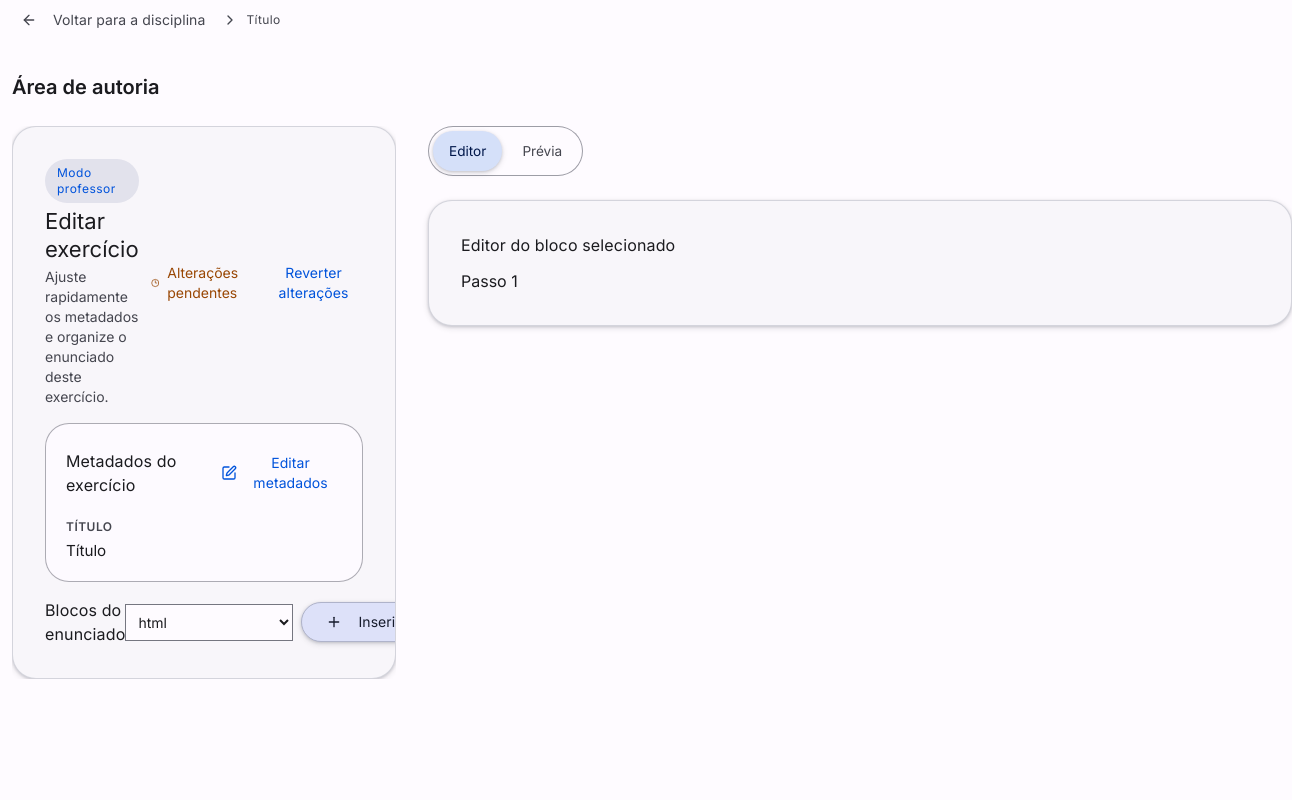
Scenario: ExerciseView component › permite alternar para visualizar a prévia do exercício
Click the button with test id "teacher-workspace-tab-preview" at (542, 151), box [506,131,578,171]
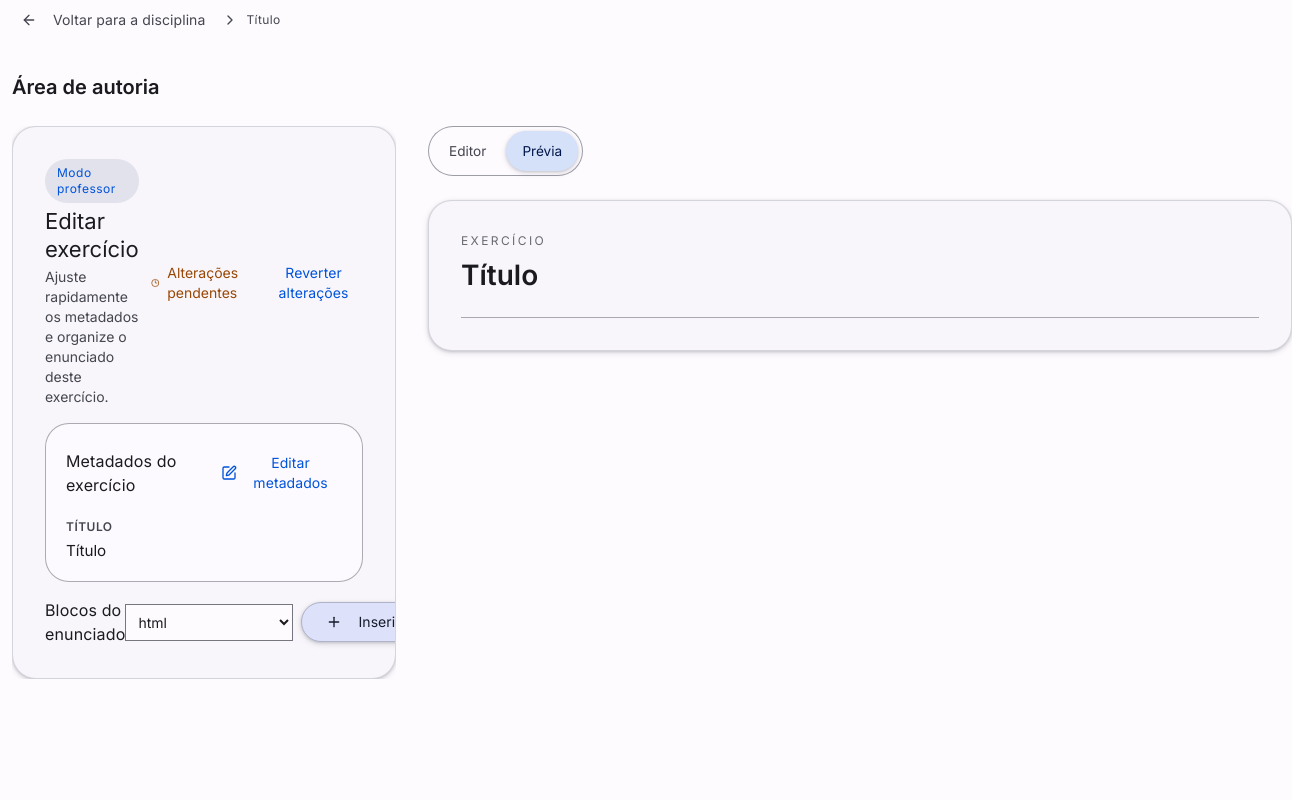
Expected: the text "Título" is shown, [246,11,281,29]
Expected: the element with class "teacher-preview-shell" is shown, [428,200,1291,351]
